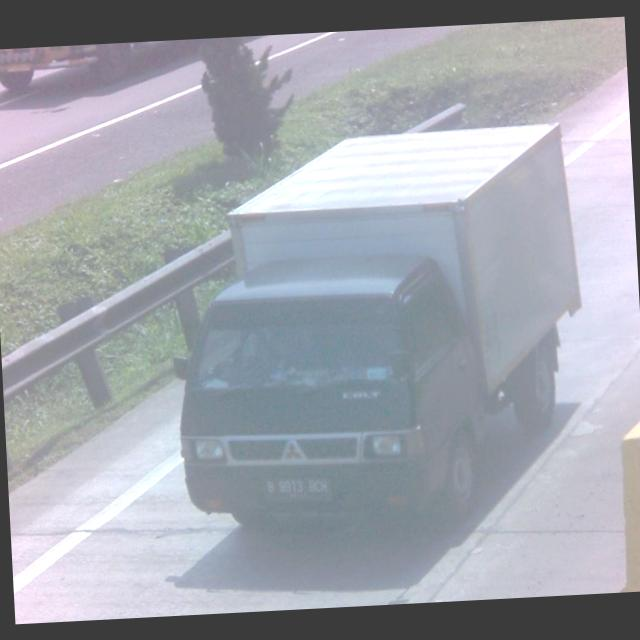plate: (262, 471, 330, 500)
